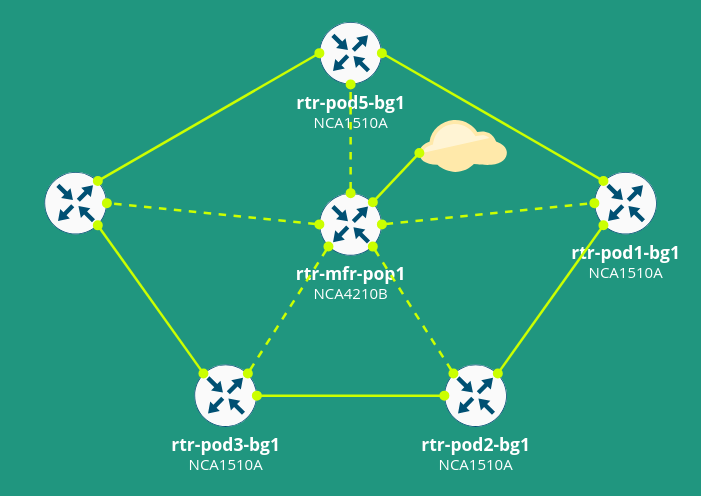
This 701x496 diagram has some shape labels left out. The centre of each missing label's shape, as x and y in pixels:
"GroBI" belongs at point 462,145.
"rtr-pod4-bg1 NCA1510A" belongs at point 75,202.
